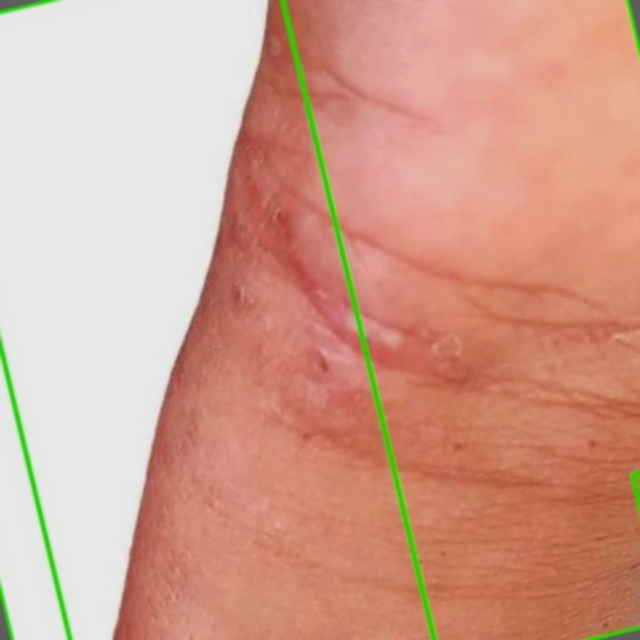Scabies: (0, 0, 639, 639), (0, 0, 433, 639)
